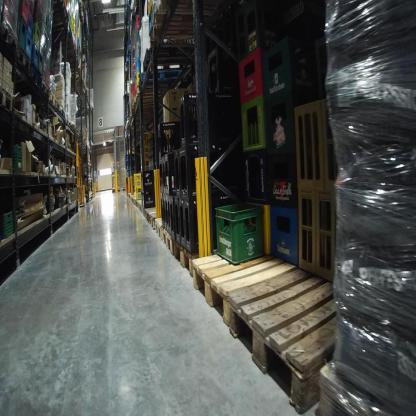pallet: (227, 275, 365, 415), (186, 250, 302, 335), (150, 2, 210, 46), (140, 48, 199, 74), (139, 67, 193, 89), (174, 239, 202, 275), (135, 87, 185, 103), (3, 20, 18, 61), (163, 222, 175, 262), (41, 83, 58, 111), (17, 43, 32, 72), (154, 217, 170, 241), (1, 88, 15, 112), (30, 65, 42, 89), (149, 210, 160, 229), (143, 206, 152, 223), (58, 102, 63, 119), (61, 107, 66, 121), (81, 12, 87, 23)
